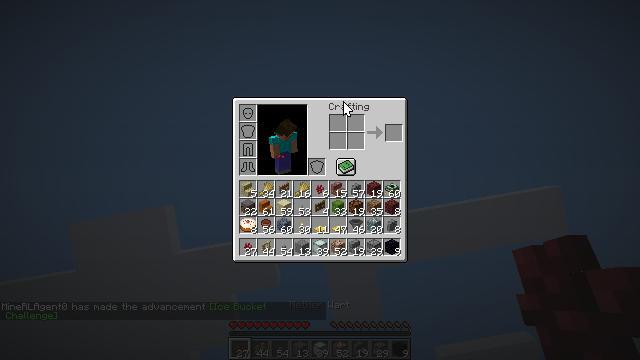cursor: (343, 101, 353, 117)
